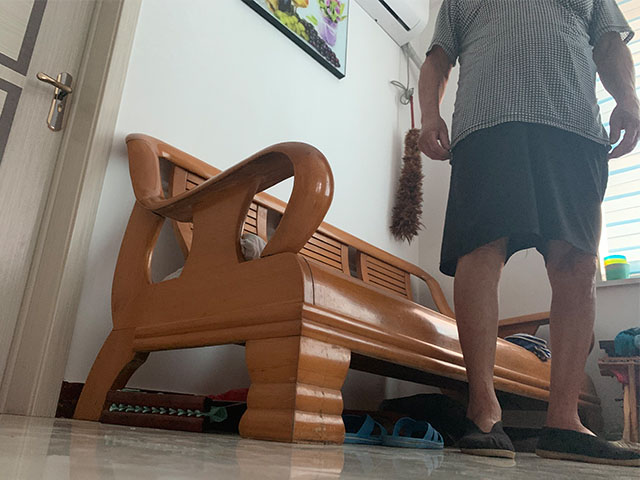slippers: (344, 414, 445, 450)
sofa: (70, 132, 610, 448)
stool: (101, 388, 246, 435), (598, 353, 640, 450)
